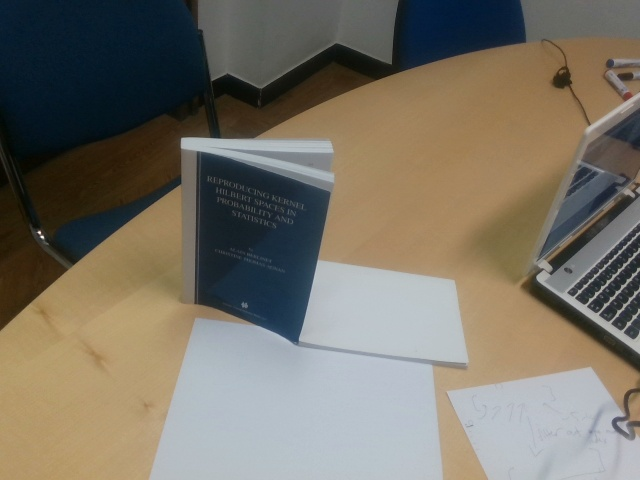book: (180, 135, 335, 345)
